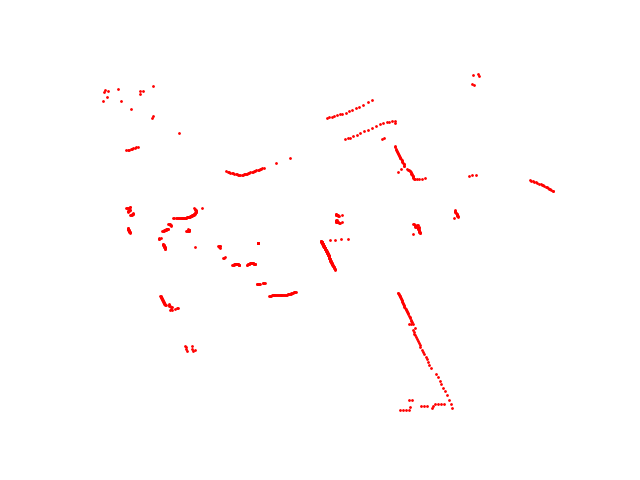person: (230, 261, 259, 269), (334, 211, 347, 227)
